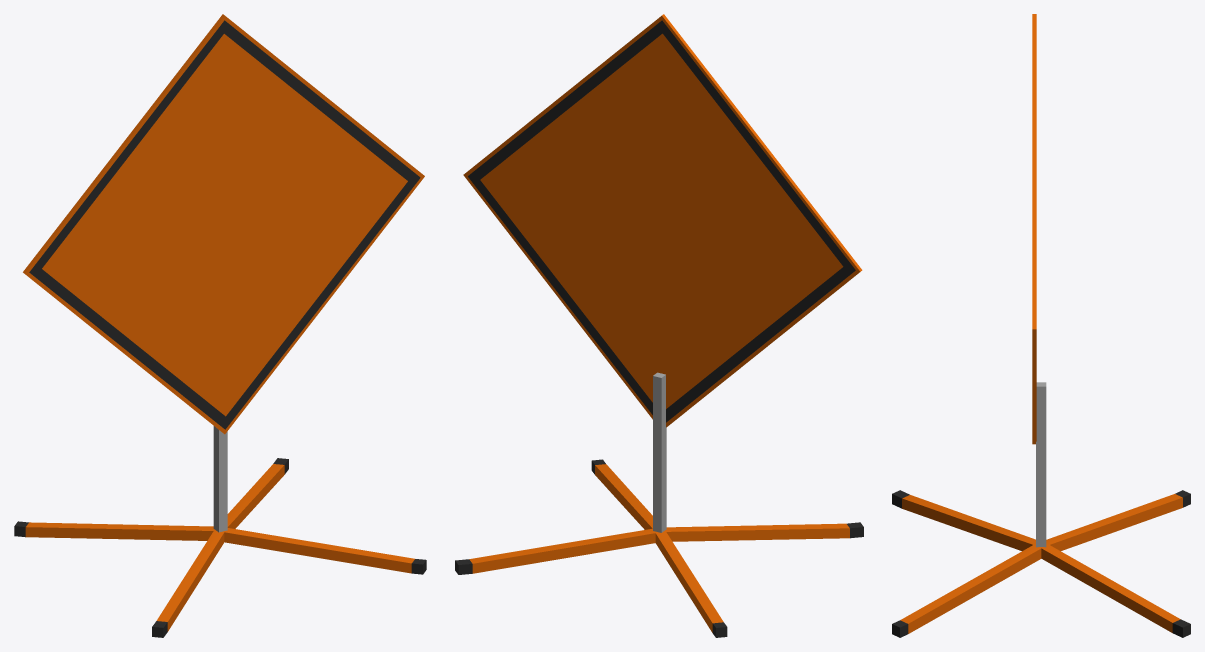
File: Proto_RoadSign_01.fbx
3 views of the same model, side by side, from view 1: azimuth 30°, elevation 25°; view 2: azimuth 150°, elevation 25°; view 3: azimuth 270°, elevation 25° (orthographic). The views are drawn at different scales.
Parts seen in each view (by area): view 1: Proto_RoadSign_01; view 2: Proto_RoadSign_01; view 3: Proto_RoadSign_01.
Boxes of the visible parts, x1,y1,x2,y2 form: Proto_RoadSign_01: [14, 14, 426, 637]; Proto_RoadSign_01: [455, 14, 863, 637]; Proto_RoadSign_01: [892, 14, 1190, 637].
Size of the model in its own units: 31.37 by 40.49 by 19.75.
